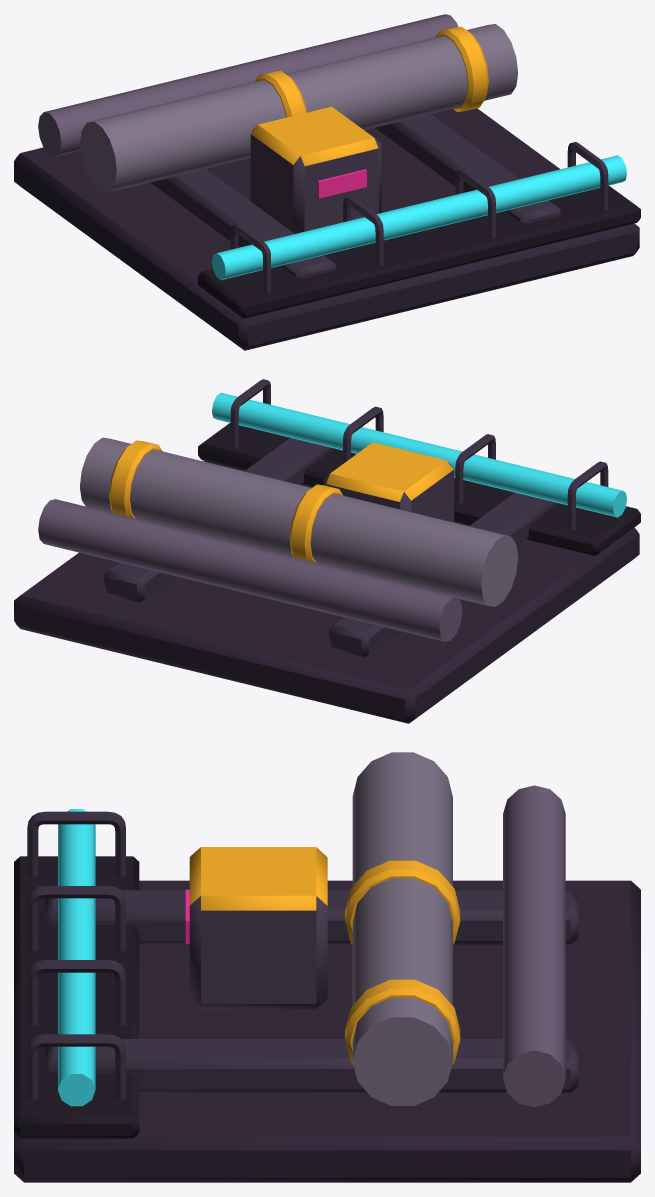
File: wall_top_b__lower.glb
3 renders of one model, top to bottom at view 1: azimuth 30°, elevation 25°; view 2: azimuth 150°, elevation 25°; view 3: azimuth 270°, elevation 25°, orthographic. The views are drawn at different scales.
Visible parts, largest first — view 1: wall_top_b; view 2: wall_top_b; view 3: wall_top_b.
Part boxes in pixels (x1=…): wall_top_b: x1=14, y1=14, x2=640, y2=350; wall_top_b: x1=14, y1=379, x2=640, y2=723; wall_top_b: x1=14, y1=752, x2=640, y2=1182.
Size of the model in its own units: 1 by 0.3097 by 1.
